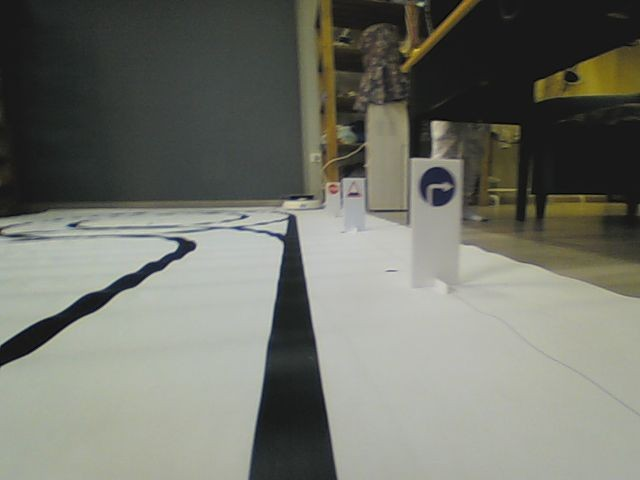Right: (416, 165, 457, 208)
